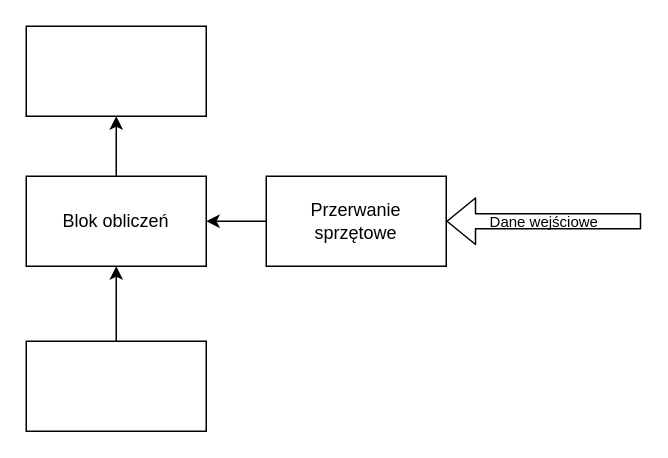
Some shapes in this 668 by 458 pixel diagram are drawn without their labels. The shapes that lost their labels are listed below. From the top down, each one's centre as x and y in pixels, then its label:
[115,70]: Wyświetlanie danych
[115,385]: Przerwanie oparte na czasie
